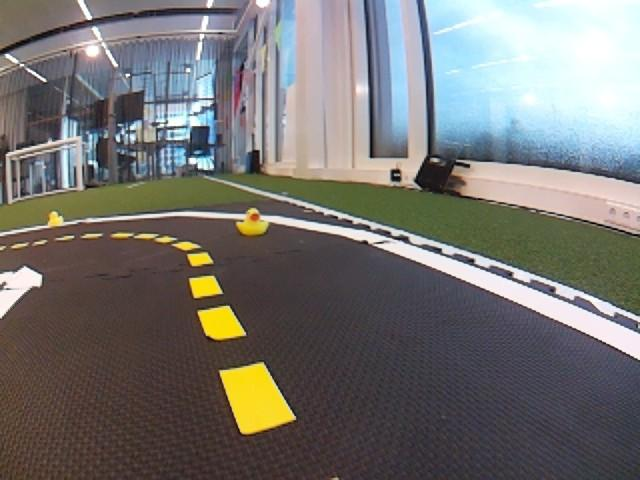Duckies: (235, 209, 268, 235), (47, 212, 63, 226)
